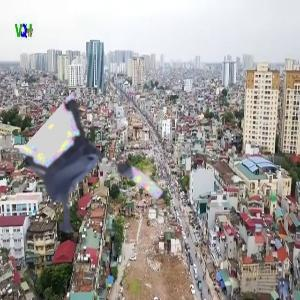drone: (9, 120, 155, 266)
